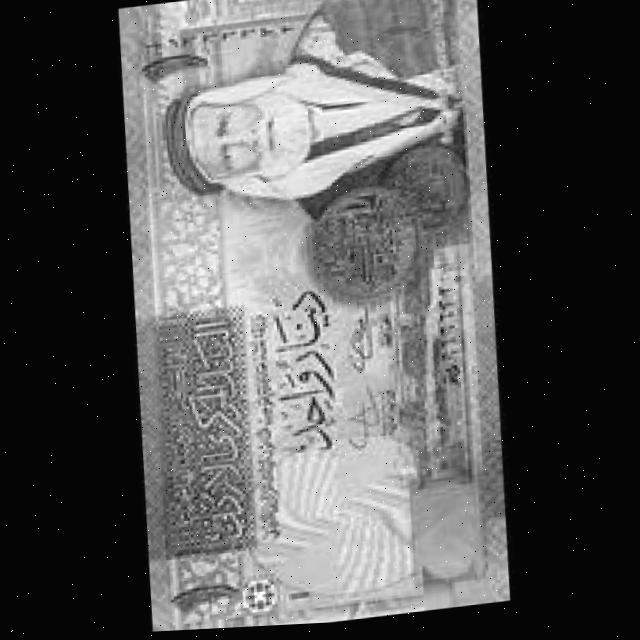banknote: (108, 0, 516, 635)
